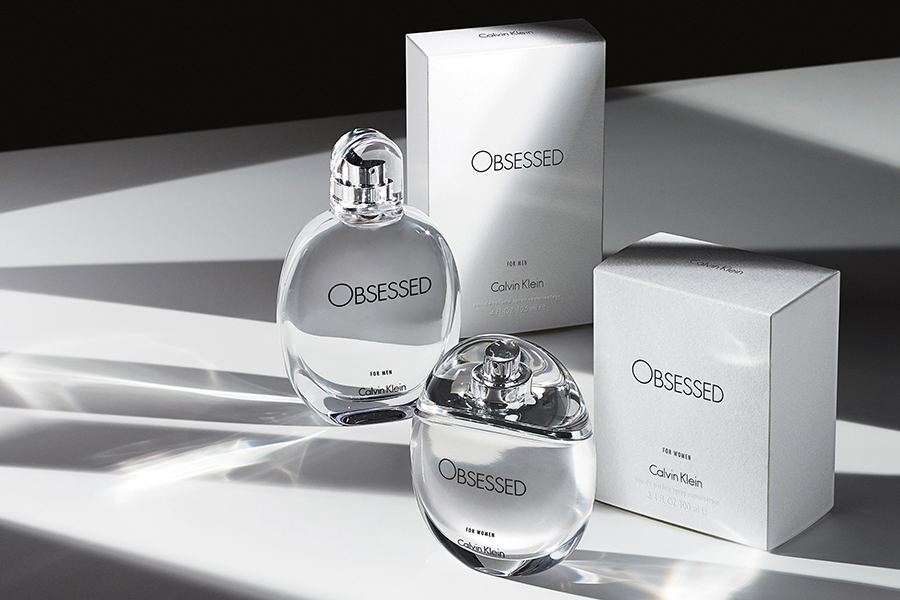Calvin Klein: (646, 459, 708, 492), (451, 532, 513, 561), (352, 379, 415, 400), (487, 276, 548, 297)
